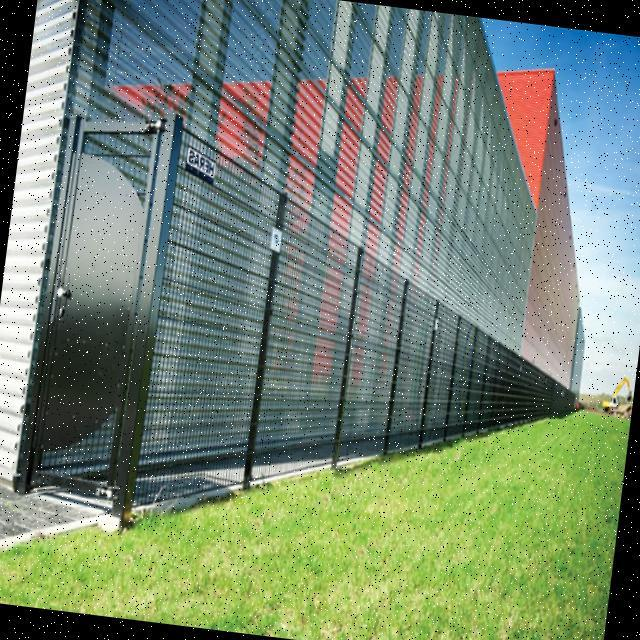fence line: (162, 220, 418, 523), (116, 147, 286, 541), (29, 108, 188, 515), (370, 324, 506, 485), (483, 367, 583, 436)
